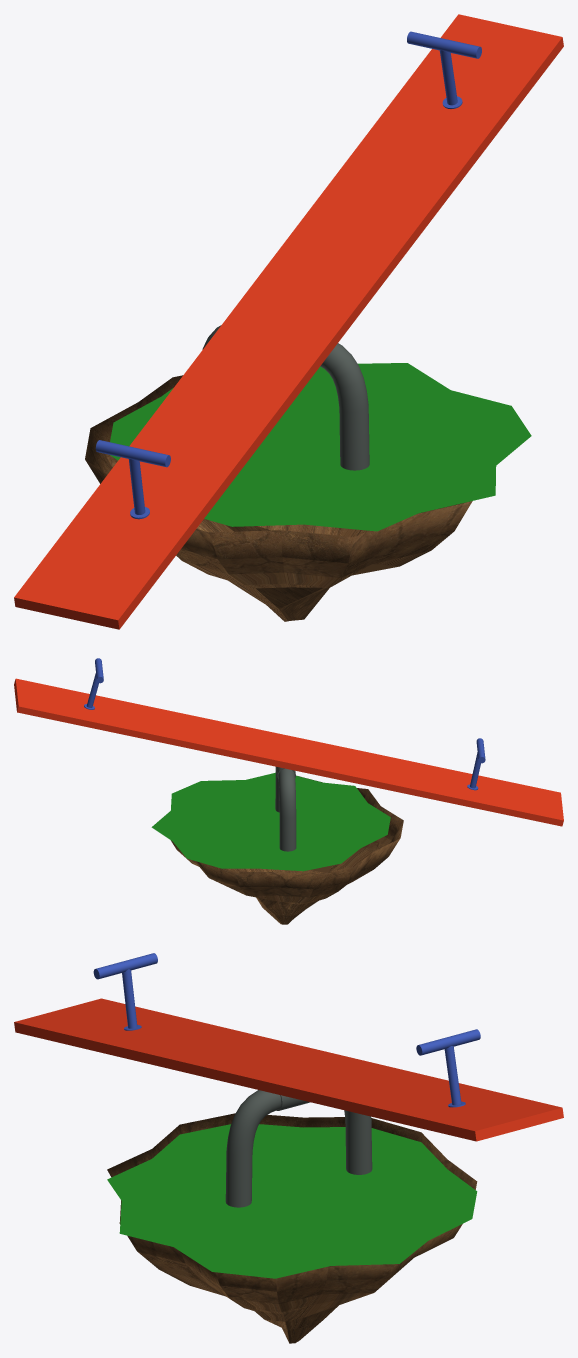
File: parco_p2.fbx
3 views of the same model, one above another, from view 1: azimuth 30°, elevation 25°; view 2: azimuth 150°, elevation 25°; view 3: azimuth 270°, elevation 25° (orthographic). The views are drawn at different scales.
Parts seen in each view (by area): view 1: LHandlePt1, erba.002, ground.002, Frame; view 2: LHandlePt1, erba.002, ground.002, Frame; view 3: erba.002, LHandlePt1, ground.002, Frame.
Part boxes in pixels (x1,y1,x2,y2): LHandlePt1: [14, 14, 563, 629]; erba.002: [110, 363, 531, 531]; ground.002: [85, 375, 472, 621]; Frame: [202, 325, 369, 470]; LHandlePt1: [14, 658, 563, 826]; erba.002: [151, 772, 390, 871]; ground.002: [171, 776, 403, 924]; Frame: [275, 766, 296, 851]; erba.002: [107, 1124, 477, 1278]; LHandlePt1: [14, 953, 563, 1141]; ground.002: [107, 1113, 477, 1343]; Frame: [225, 1090, 372, 1207].
Bounding box in the file's own units: 1470 × 845 × 1038.
Materials: 5 (1 with a texture image).
